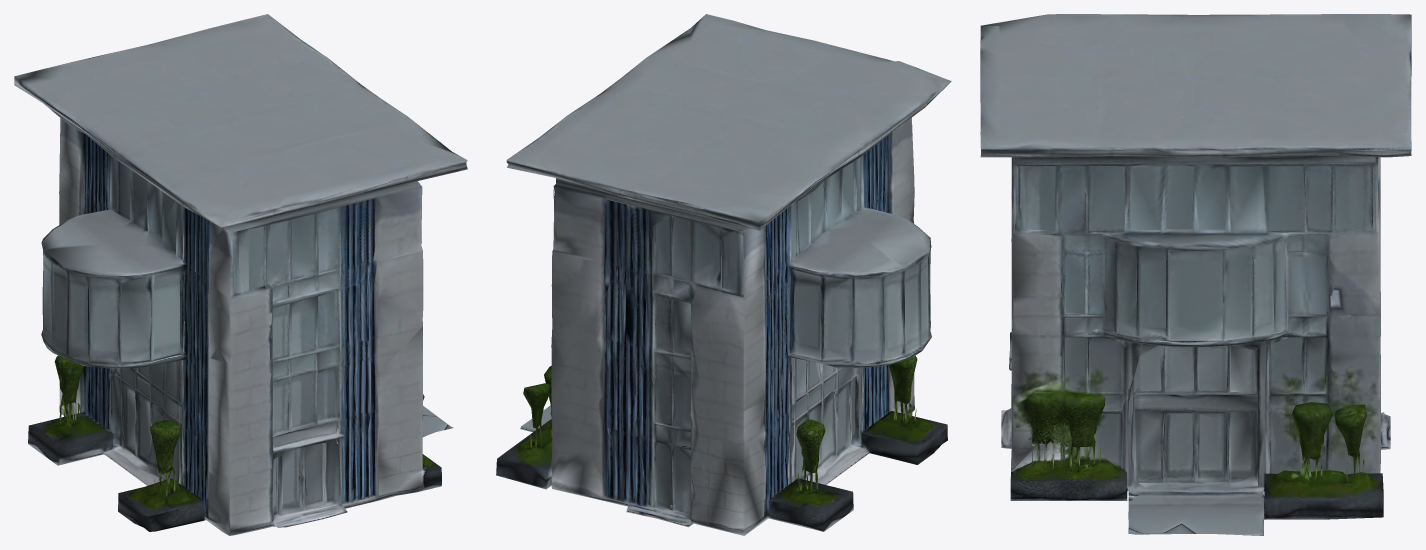
File: au_bld_partners_campus.glb
3 renders of one model, left to right at view 1: azimuth 30°, elevation 25°; view 2: azimuth 150°, elevation 25°; view 3: azimuth 270°, elevation 25°, orthographic. The views are drawn at different scales.
Visible parts, largest first — view 1: tripo_node_9492196e-7eac-4dbc-b0ff-e32c18a135c5; view 2: tripo_node_9492196e-7eac-4dbc-b0ff-e32c18a135c5; view 3: tripo_node_9492196e-7eac-4dbc-b0ff-e32c18a135c5.
Part boxes in pixels (left/top/right/bottom): tripo_node_9492196e-7eac-4dbc-b0ff-e32c18a135c5: left=14, top=14, right=467, bottom=535; tripo_node_9492196e-7eac-4dbc-b0ff-e32c18a135c5: left=496, top=14, right=951, bottom=535; tripo_node_9492196e-7eac-4dbc-b0ff-e32c18a135c5: left=980, top=14, right=1411, bottom=535.
Size of the model in its own units: 0.9803 by 0.8438 by 0.9159.
1 material, 1 textured.
